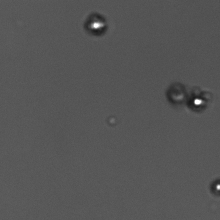Dead Cell: (166, 80, 188, 105)
Living Cell: (84, 11, 108, 35), (190, 91, 208, 113)
